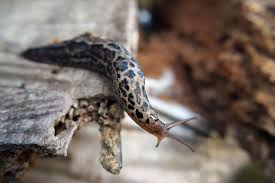slug: (21, 32, 195, 153)
